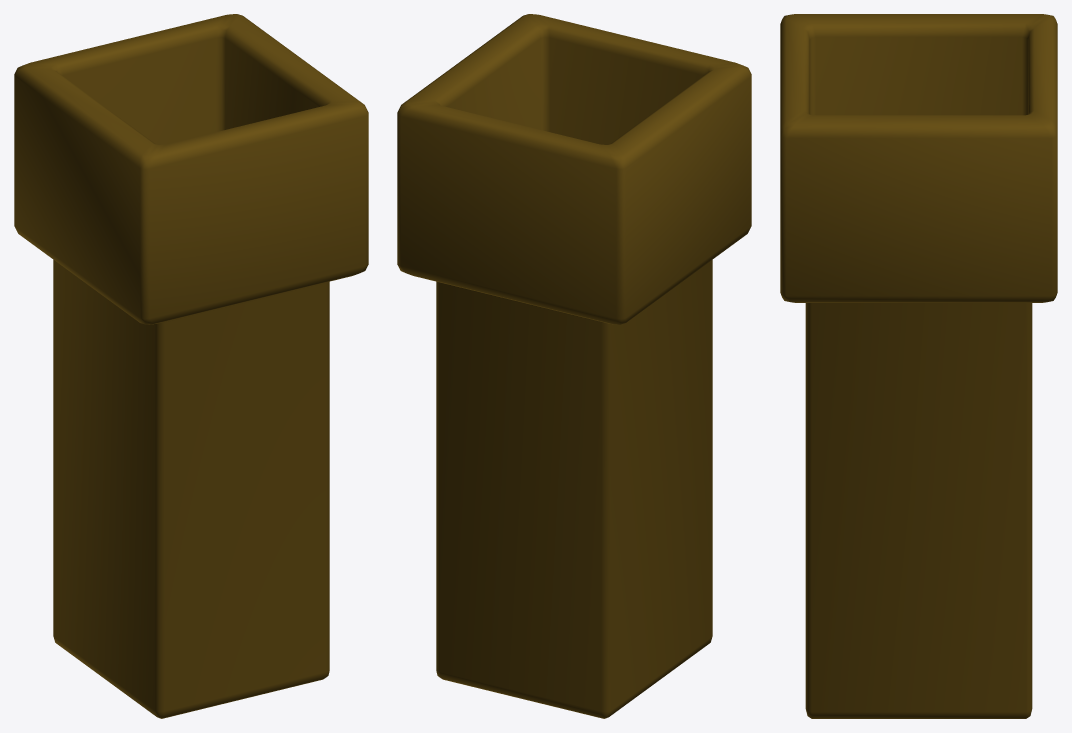
Rendered from FM_H_Doll_BH_Chimney_001.fbx.
3 renders of one model, left to right at view 1: azimuth 30°, elevation 25°; view 2: azimuth 150°, elevation 25°; view 3: azimuth 270°, elevation 25°, orthographic. The views are drawn at different scales.
Visible parts, largest first — view 1: H_Doll_BH_Chimney_001; view 2: H_Doll_BH_Chimney_001; view 3: H_Doll_BH_Chimney_001.
Part boxes in pixels (x1,y1,x2,y2): H_Doll_BH_Chimney_001: (14,14,368,718); H_Doll_BH_Chimney_001: (397,14,751,718); H_Doll_BH_Chimney_001: (780,14,1057,718).
Size of the model in its own units: 1.83 by 4.43 by 1.83.
